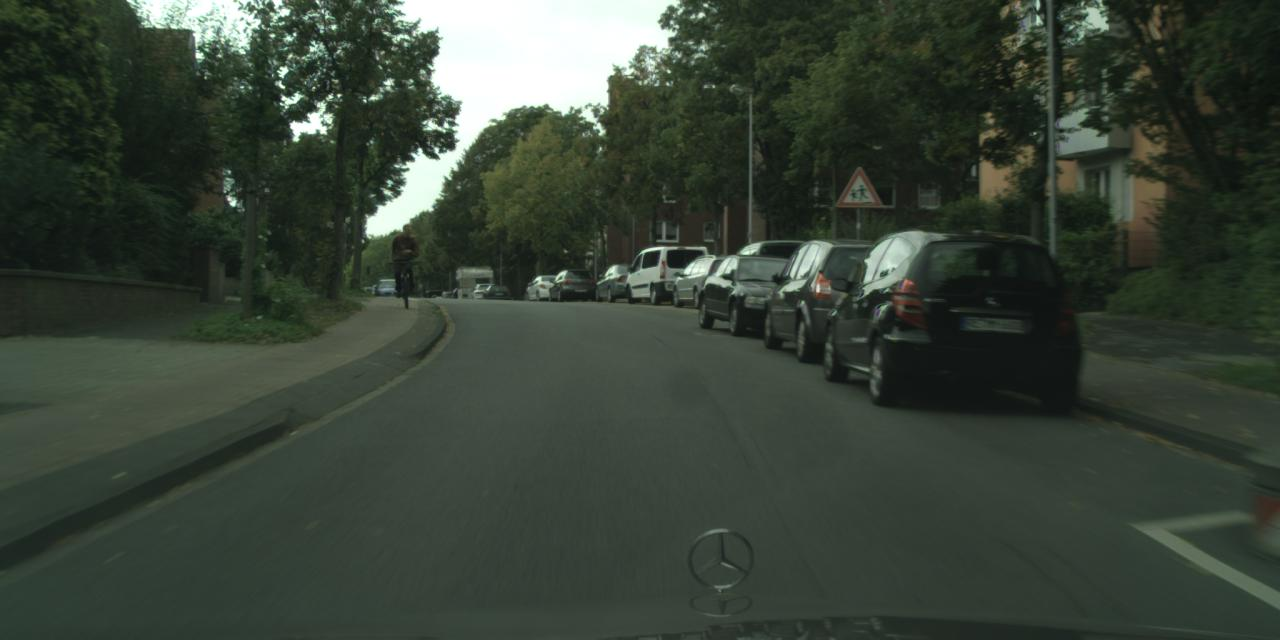ped: (391, 222, 420, 294)
